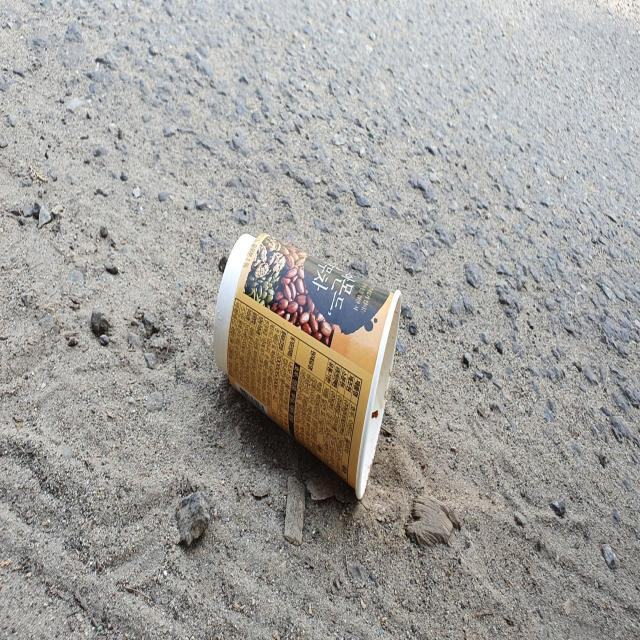paperpack: (213, 233, 401, 499)
